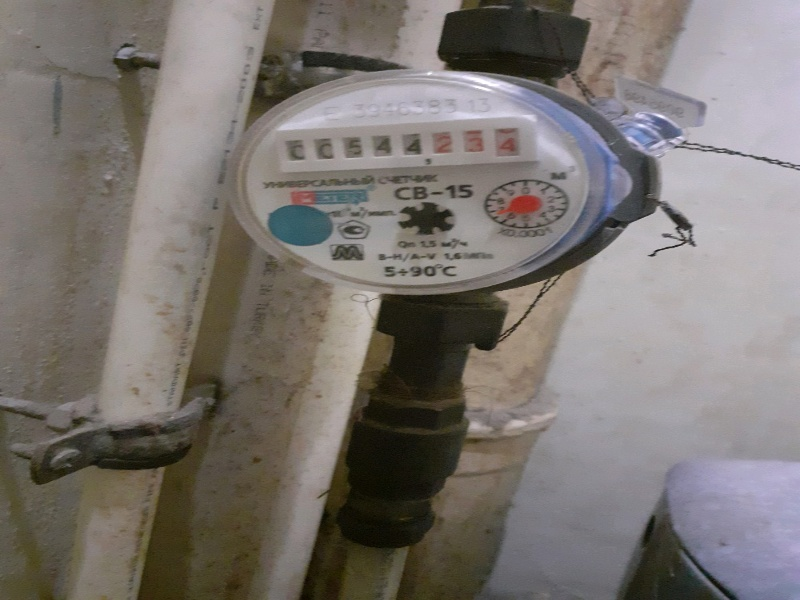dial: (273, 135, 543, 167)
